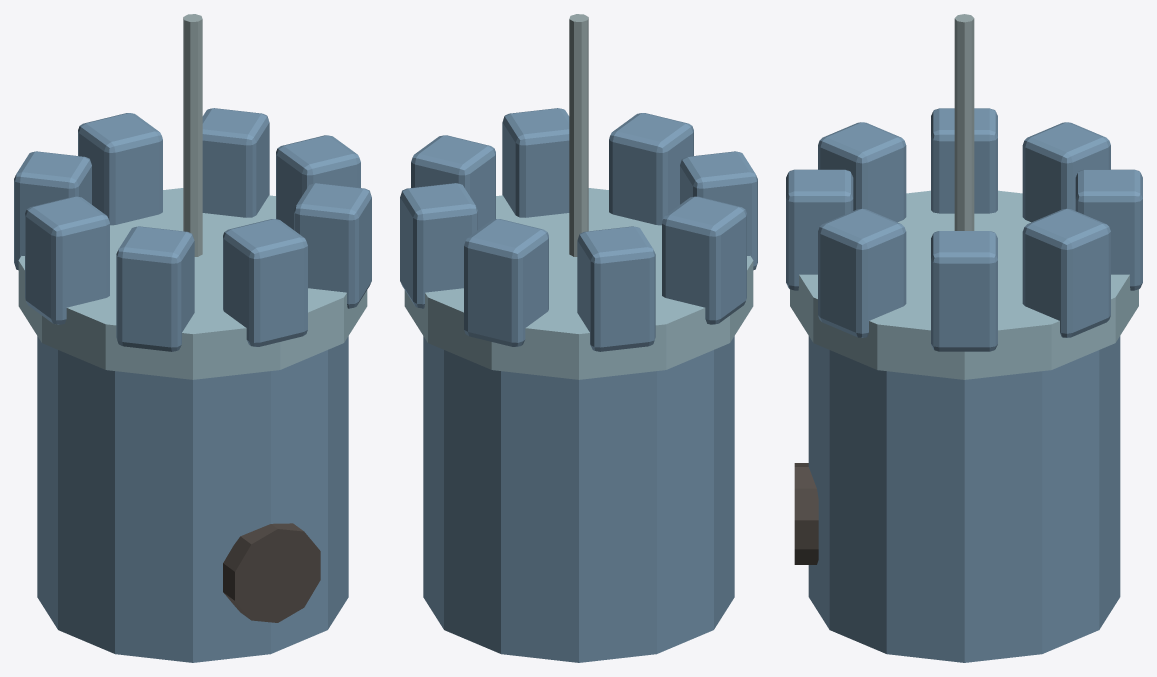
File: building_western_watchtower.glb
The picture shows the model from 3 angles, left to right: view 1: azimuth 30°, elevation 25°; view 2: azimuth 150°, elevation 25°; view 3: azimuth 270°, elevation 25°; orthographic projection.
Parts seen in each view (by area): view 1: Western_Watchtower_Body.001, Western_Watchtower_TopRing.001, Western_Watchtower_Crenel_06.001, Western_Watchtower_Crenel_04.001, Western_Watchtower_Crenel_05.001, Western_Watchtower_Door.001, Western_Watchtower_Crenel_02.001, Western_Watchtower_Crenel_07.001, Western_Watchtower_Crenel_01.001, Western_Watchtower_BannerPole.001, Western_Watchtower_Crenel_00.001, Western_Watchtower_Crenel_03.001; view 2: Western_Watchtower_Body.001, Western_Watchtower_TopRing.001, Western_Watchtower_Crenel_02.001, Western_Watchtower_Crenel_04.001, Western_Watchtower_Crenel_03.001, Western_Watchtower_Crenel_06.001, Western_Watchtower_Crenel_01.001, Western_Watchtower_Crenel_07.001, Western_Watchtower_BannerPole.001, Western_Watchtower_Crenel_00.001, Western_Watchtower_Crenel_05.001; view 3: Western_Watchtower_Body.001, Western_Watchtower_TopRing.001, Western_Watchtower_Crenel_01.001, Western_Watchtower_Crenel_07.001, Western_Watchtower_Crenel_00.001, Western_Watchtower_Crenel_03.001, Western_Watchtower_Crenel_05.001, Western_Watchtower_Crenel_02.001, Western_Watchtower_Crenel_06.001, Western_Watchtower_Crenel_04.001, Western_Watchtower_BannerPole.001, Western_Watchtower_Door.001.
Part boxes in pixels (box(x1,y1,x2,y2)): Western_Watchtower_Body.001: box(37, 336, 348, 662); Western_Watchtower_TopRing.001: box(18, 188, 367, 379); Western_Watchtower_Crenel_06.001: box(223, 219, 307, 346); Western_Watchtower_Crenel_04.001: box(25, 196, 109, 324); Western_Watchtower_Crenel_05.001: box(116, 226, 194, 351); Western_Watchtower_Door.001: box(223, 523, 320, 622); Western_Watchtower_Crenel_02.001: box(78, 113, 162, 225); Western_Watchtower_Crenel_07.001: box(294, 183, 371, 308); Western_Watchtower_Crenel_01.001: box(202, 108, 269, 217); Western_Watchtower_BannerPole.001: box(183, 14, 202, 256); Western_Watchtower_Crenel_00.001: box(276, 135, 360, 229); Western_Watchtower_Crenel_03.001: box(14, 151, 91, 270); Western_Watchtower_Body.001: box(423, 336, 734, 662); Western_Watchtower_TopRing.001: box(404, 188, 753, 379); Western_Watchtower_Crenel_02.001: box(464, 219, 548, 346); Western_Watchtower_Crenel_04.001: box(662, 196, 746, 324); Western_Watchtower_Crenel_03.001: box(577, 226, 655, 351); Western_Watchtower_Crenel_06.001: box(609, 113, 693, 225); Western_Watchtower_Crenel_01.001: box(400, 183, 477, 308); Western_Watchtower_Crenel_07.001: box(502, 108, 569, 217); Western_Watchtower_BannerPole.001: box(569, 14, 588, 256); Western_Watchtower_Crenel_00.001: box(411, 135, 495, 229); Western_Watchtower_Crenel_05.001: box(680, 151, 757, 270); Western_Watchtower_Body.001: box(808, 336, 1120, 662); Western_Watchtower_TopRing.001: box(790, 190, 1138, 379); Western_Watchtower_Crenel_01.001: box(1022, 208, 1110, 337); Western_Watchtower_Crenel_07.001: box(818, 208, 906, 337); Western_Watchtower_Crenel_00.001: box(931, 231, 997, 351); Western_Watchtower_Crenel_03.001: box(1022, 122, 1110, 222); Western_Watchtower_Crenel_05.001: box(818, 122, 906, 222); Western_Watchtower_Crenel_02.001: box(1075, 169, 1142, 290); Western_Watchtower_Crenel_06.001: box(786, 169, 853, 290); Western_Watchtower_Crenel_04.001: box(931, 108, 997, 213); Western_Watchtower_BannerPole.001: box(954, 14, 974, 230); Western_Watchtower_Door.001: box(794, 463, 818, 564).
Size of the model in its own units: 1.7 by 3.04 by 1.7.
